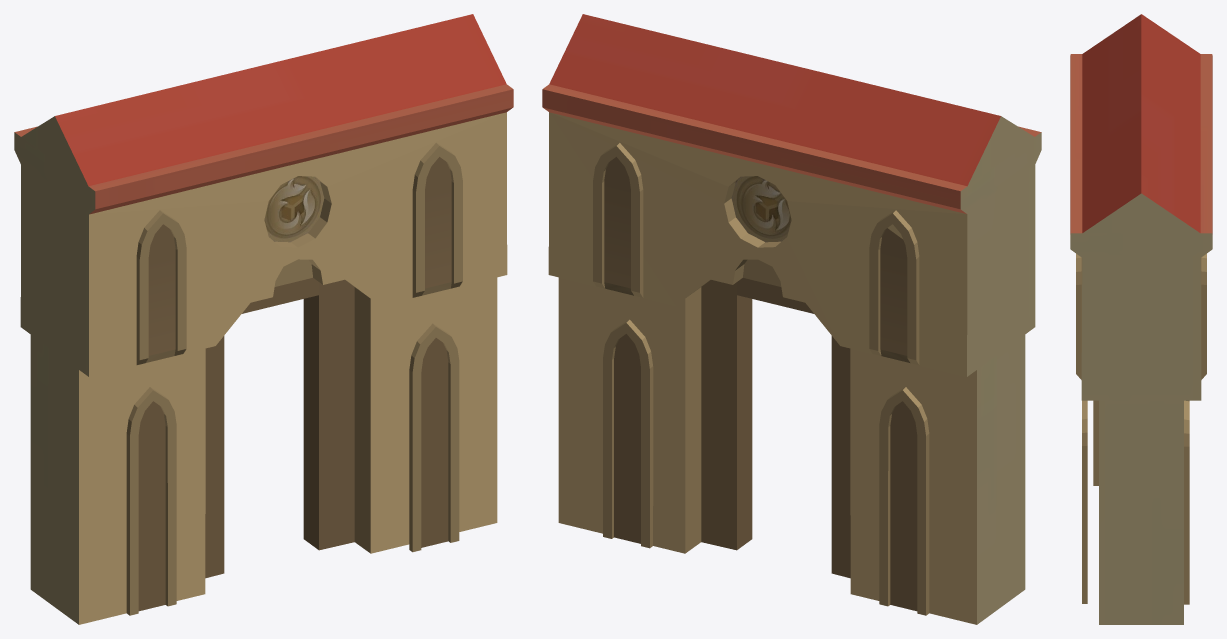
File: castle_town_entrence_small.glb
3 views of the same model, side by side, from view 1: azimuth 30°, elevation 25°; view 2: azimuth 150°, elevation 25°; view 3: azimuth 270°, elevation 25° (orthographic). The views are drawn at different scales.
Visible parts, largest first — view 1: entrence_small; view 2: entrence_small; view 3: entrence_small.
Part boxes in pixels (x1=…): entrence_small: x1=14, y1=14, x2=513, y2=624; entrence_small: x1=542, y1=14, x2=1041, y2=624; entrence_small: x1=1070, y1=14, x2=1212, y2=624.
Size of the model in its own units: 9.87 by 11.08 by 3.32.
Materials: 1 (1 with a texture image).
